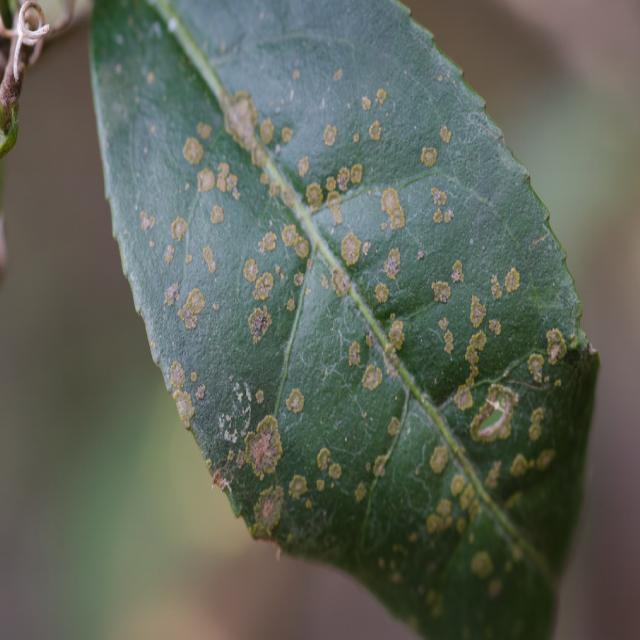Tea algae leaf spot: (166, 92, 587, 585)
